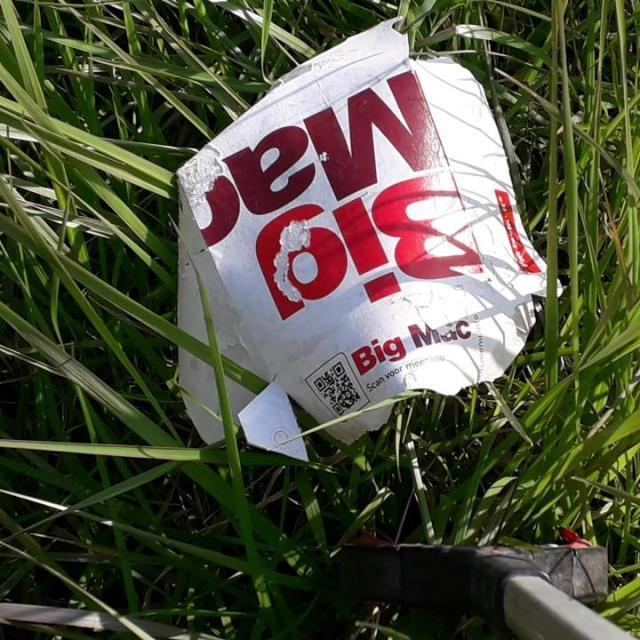Paper: (170, 12, 570, 468)
